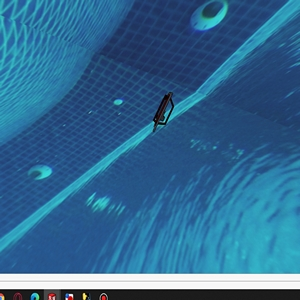submarine: (156, 91, 174, 133)
